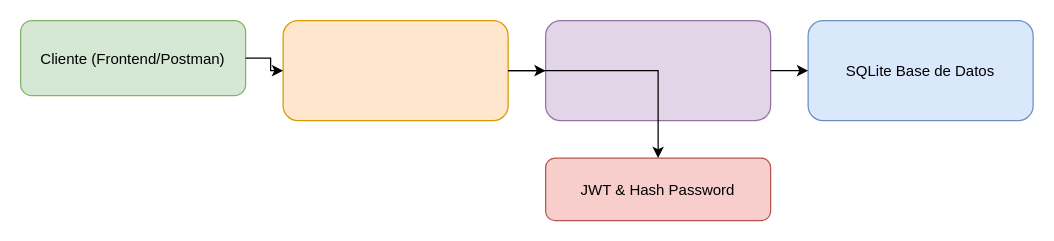
The diagram is 1054 pixels wide and 241 high, and some of its shapes have lost their labels. Here are the shapes that lost their labels. From the top down, the centre of each, then its label:
point 395,70: FastAPI (API REST)
point 657,70: Modelos (User, Phone)
